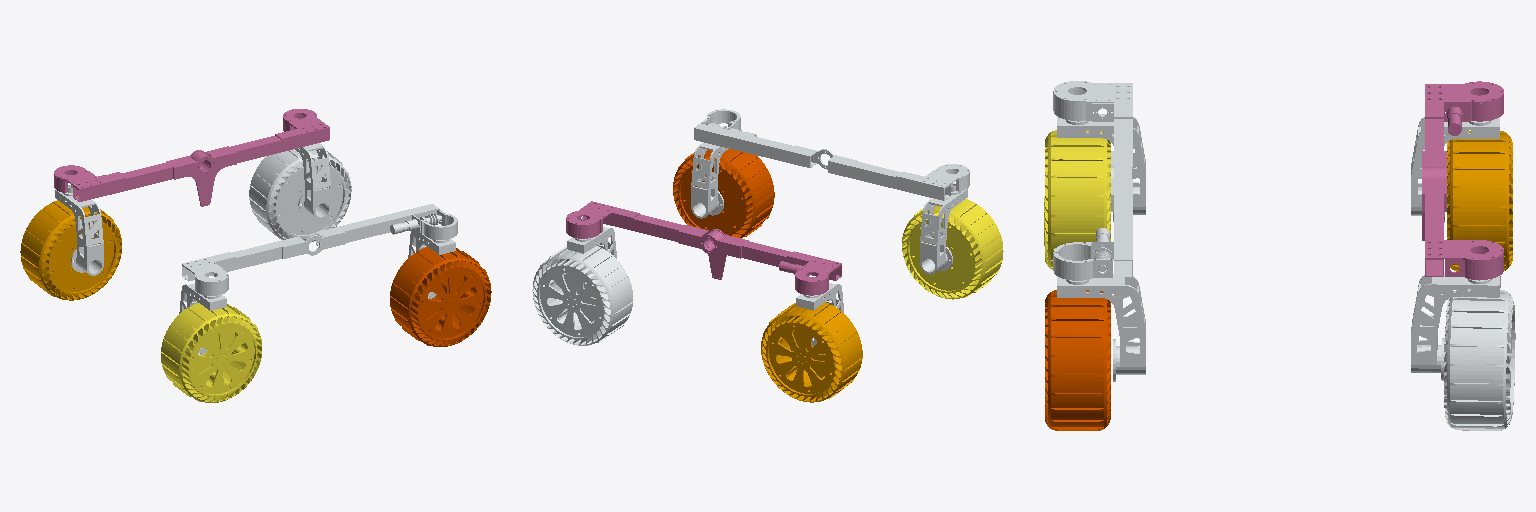
robot.urdf — new_rover_9:
<!-- This URDF was automatically created by SolidWorks to URDF Exporter! Originally created by [author] ([email redacted]) 
     Commit Version: 1.6.0-4-g7f85cfe  Build Version: 1.6.7995.38578
     For more information, please see http://wiki.ros.org/sw_urdf_exporter -->
<robot
  name="new_rover_9">

  <material name="aquaRed" >
    <color rgba="0.00784313725490196 0.8470588235294118 0.9137254901960784 1.0" />
  </material>
  <link
    name="base_link">
    <inertial>
      <origin
        xyz="-0.132082956642453 -0.0248549723848036 0.162687233510363"
        rpy="0 0 0" />
      <mass
        value="6.70568836181802" />
      <inertia
        ixx="0.0530040371661519"
        ixy="5.39048989035611E-06"
        ixz="-0.000308151386698881"
        iyy="0.0580509304770264"
        iyz="-2.67450621313034E-06"
        izz="0.0943643241885065" />
    </inertial>
    <visual>
      <origin
        xyz="0 0 0"
        rpy="0 0 0" />
      <geometry>
        <mesh
          filename="package://new_rover_9/meshes/base_link.STL" />
      </geometry>
      <material name="">
        <color rgba="0.752941176470588 0.752941176470588 0.752941176470588 1" />
      </material>
    </visual>
    <collision>
      <origin
        xyz="0 0 0"
        rpy="0 0 0" />
      <geometry>
        <mesh
          filename="package://new_rover_9/meshes/base_link.STL" />
      </geometry>
    </collision>
  </link>
  <link
    name="sus1_link">
    <inertial>
      <origin
        xyz="-0.107851740412222 0.00869273249687041 0.000618817187424514"
        rpy="0 0 0" />
      <mass
        value="1.36449713758733" />
      <inertia
        ixx="0.000623567175926047"
        ixy="-5.79272053863803E-05"
        ixz="7.02961351421298E-07"
        iyy="0.00839831717666517"
        iyz="3.38116418252128E-07"
        izz="0.00861037577387492" />
    </inertial>
    <visual>
      <origin
        xyz="0 0 0"
        rpy="0 0 0" />
      <geometry>
        <mesh
          filename="package://new_rover_9/meshes/sus1_link.STL" />
      </geometry>
      <material name="">
        <color rgba="0.898039215686275 0.917647058823529 0.929411764705882 1" />
      </material>
    </visual>
    <collision>
      <origin
        xyz="0 0 0"
        rpy="0 0 0" />
      <geometry>
        <mesh
          filename="package://new_rover_9/meshes/sus1_link.STL" />
      </geometry>
    </collision>
  </link>
  <joint
    name="sus1_joint"
    type="revolute">
    <origin
      xyz="-0.175987105974914 -0.354299998643391 0.133710652802224"
      rpy="0 0 -3.14159265358979" />
    <parent
      link="base_link" />
    <child
      link="sus1_link" />
    <axis
      xyz="0 -1 0" />
    <limit lower="-0.1" upper="0.1" effort="100000.0" velocity="1.5708"/>
  </joint>
  <link
    name="front_l_h_l">
    <inertial>
      <origin
        xyz="-0.000242820763046825 -0.08521856497559 -0.109618046061958"
        rpy="0 0 0" />
      <mass
        value="0.813058286010916" />
      <inertia
        ixx="0.00643476722942301"
        ixy="-4.22326685621668E-06"
        ixz="-5.18172608823083E-06"
        iyy="0.00498647334398899"
        iyz="-0.00161084614326428"
        izz="0.0022353416254673" />
    </inertial>
    <visual>
      <origin
        xyz="0 0 0"
        rpy="0 0 0" />
      <geometry>
        <mesh
          filename="package://new_rover_9/meshes/front_l_h_l.STL" />
      </geometry>
      <material name="">
        <color rgba="0.898039215686275 0.917647058823529 0.929411764705882 1" />
      </material>
    </visual>
    <collision>
      <origin
        xyz="0 0 0"
        rpy="0 0 0" />
      <geometry>
        <mesh
          filename="package://new_rover_9/meshes/front_l_h_l.STL" />
      </geometry>
    </collision>
  </link>
  <joint
    name="front_l_h_j"
    type="continuous">
    <origin
      xyz="0.400000000910628 0.0710000001158667 -0.0380000000953806"
      rpy="0 0 0" />
    <parent
      link="sus1_link" />
    <child
      link="front_l_h_l" />
    <axis
      xyz="0 0 1" />
  </joint>
  <link
    name="front_left_wheel_link">
    <inertial>
      <origin
        xyz="-4.38557242170567E-05 -0.0552090924540035 0.000113214876528711"
        rpy="0 0 0" />
      <mass
        value="2.61461725257028" />
      <inertia 
        ixx="0.0205058360674925"
        ixy="4.37970910857377E-05"
        ixz="8.05363520707392E-08"
        iyy="0.0358767128408902"
        iyz="5.15279358578612E-10"
        izz="0.0205057088690665" />
    </inertial>
    <visual>
      <origin
        xyz="0 0 0"
        rpy="0 0 0" />
      <geometry>
        <mesh
          filename="package://new_rover_9/meshes/front_left_wheel_link.STL" />
      </geometry>
  <material name="Gazebo/SkyBlue">
  <script>
    <uri>file:/[local-path]/scripts/gazebo.material</uri>
    <name>Gazebo/SkyBlue</name>
  </script>
</material>
    </visual>
    <collision>
      <origin
        xyz="0 0 0"
        rpy="0 0 0" />
      <geometry>
        <mesh
          filename="package://new_rover_9/meshes/front_left_wheel_link.STL" />
      </geometry>
    </collision>
  </link>
  <joint
    name="front_left_wheel_joint"
    type="continuous">
    <origin
      xyz="0.000176658071734836 0.0619997483847696 -0.193999999650114"
      rpy="0 0 0" />
    <parent
      link="front_l_h_l" />
    <child
      link="front_left_wheel_link" />
    <axis
      xyz="0 -1 0" />
  </joint>
  <link
    name="back_l_h_l">
    <inertial>
      <origin
        xyz="-5.48018288040741E-09 -0.0852189109963623 -0.109618042855027"
        rpy="0 0 0" />
      <mass
        value="0.813058285839034" />
      <inertia
        ixx="0.006434779537654"
        ixy="-9.65720636613933E-08"
        ixz="-5.91903354356779E-07"
        iyy="0.00498646103499787"
        iyz="-0.00161085436854782"
        izz="0.00223534162524064" />
    </inertial>
    <visual>
      <origin
        xyz="0 0 0"
        rpy="0 0 0" />
      <geometry>
        <mesh
          filename="package://new_rover_9/meshes/back_l_h_l.STL" />
      </geometry>
      <material name="">
        <color rgba="0.898039215686275 0.917647058823529 0.929411764705882 1" />
      </material>
    </visual>
    <collision>
      <origin
        xyz="0 0 0"
        rpy="0 0 0" />
      <geometry>
        <mesh
          filename="package://new_rover_9/meshes/back_l_h_l.STL" />
      </geometry>
    </collision>
  </link>
  <joint
    name="back_l_hJ"
    type="continuous">
    <origin
      xyz="-0.399999999057761 0.0710000001721209 -0.0380000012807069"
      rpy="0 0 0" />
    <parent
      link="sus1_link" />
    <child
      link="back_l_h_l" />
    <axis
      xyz="0 0 1" />
  </joint>
  <link
    name="back_left_wheel_link">
    <inertial>
      <origin
        xyz="0.000108343283359524 -0.0580906575113568 0.000107999200660402"
        rpy="0 0 0" />
      <mass
        value="2.73944703834587" />
      <inertia
        ixx="0.0206493482255812"
        ixy="5.15609150732447E-10"
        ixz="8.01838055968275E-08"
        iyy="0.0361230128636748"
        iyz="3.21485909733008E-10"
        izz="0.0206493458194449" />
    </inertial>
    <visual>
      <origin
        xyz="0 0 0"
        rpy="0 0 0" />
      <geometry>
        <mesh
          filename="package://new_rover_9/meshes/back_left_wheel_link.STL" />
      </geometry>
<material name="Gazebo/SkyBlue">
  <script>
    <uri>file:/[local-path]/scripts/gazebo.material</uri>
    <name>Gazebo/SkyBlue</name>
  </script>
</material>
    </visual>
    <collision>
      <origin
        xyz="0 0 0"
        rpy="0 0 0" />
      <geometry>
        <mesh
          filename="package://new_rover_9/meshes/back_left_wheel_link.STL" />
      </geometry>
    </collision>
  </link>
  <joint
    name="back_left_wheel_joint"
    type="continuous">
    <origin
      xyz="0 0.0619999999999999 -0.194000000347058"
      rpy="0 0 0" />
    <parent
      link="back_l_h_l" />
    <child
      link="back_left_wheel_link" />
    <axis
      xyz="0 -1 0" />
  </joint>
  <link
    name="sus2_link">
    <inertial>
      <origin
        xyz="0.0330258016614403 0.00446937753693932 -0.00265347295417251"
        rpy="0 0 0" />
      <mass
        value="1.51351853803693" />
      <inertia
        ixx="0.00118936552688235"
        ixy="-3.14090423072223E-15"
        ixz="-1.84724136897124E-11"
        iyy="0.00950211267187387"
        iyz="1.44958064910376E-09"
        izz="0.00945496383734068" />
    </inertial>
    <visual>
      <origin
        xyz="0 0 0"
        rpy="0 0 0" />
      <geometry>
        <mesh
          filename="package://new_rover_9/meshes/sus2_link.STL" />
      </geometry>
  <material name="Gazebo/SkyBlue">
  <script>
    <uri>file:/[local-path]/scripts/gazebo.material</uri>
    <name>Gazebo/SkyBlue</name>
  </script>
</material>
    </visual>
    <collision>
      <origin
        xyz="0 0 0"
        rpy="0 0 0" />
      <geometry>
        <mesh
          filename="package://new_rover_9/meshes/sus2_link.STL" />
      </geometry>
    </collision>
  </link>
  <joint
    name="sus2_joint"
    type="revolute">
    <origin
      xyz="-0.175987106860856 0.354300001186029 0.133710652113138"
      rpy="0 0.00357594456426887 3.14159265358979" />
    <parent
      link="base_link" />
    <child
      link="sus2_link" />
    <axis
      xyz="0 1 0" />
    <limit lower="-0.1" upper="0.1" effort="10000.0" velocity="1.5708"/>
    <mimic joint="sus1_joint" multiplier="-1.0" offset="0.0"/> 
  </joint>
  <link
    name="front_r_h_l">
    <inertial>
      <origin
        xyz="4.86645390651574E-09 0.085218911040194 -0.10961804455372"
        rpy="0 0 0" />
      <mass
        value="0.813058287609234" />
      <inertia
        ixx="0.00643477954179645"
        ixy="-9.65649492468235E-08"
        ixz="5.91885627826755E-07"
        iyy="0.00498646103917411"
        iyz="0.0016108543700911"
        izz="0.00223534162739043" />
    </inertial>
    <visual>
      <origin
        xyz="0 0 0"
        rpy="0 0 0" />
      <geometry>
        <mesh
          filename="package://new_rover_9/meshes/front_r_h_l.STL" />
      </geometry>
      <material name="">
        <color rgba="0.898039215686275 0.917647058823529 0.929411764705882 1" />
      </material>
    </visual>
    <collision>
      <origin
        xyz="0 0 0"
        rpy="0 0 0" />
      <geometry>
        <mesh
          filename="package://new_rover_9/meshes/front_r_h_l.STL" />
      </geometry>
    </collision>
  </link>
  <joint
    name="front_r_h_j"
    type="continuous">
    <origin
      xyz="0.399999999999999 -0.0710000000035129 -0.0380000000000013"
      rpy="0 0 0" />
    <parent
      link="sus2_link" />
    <child
      link="front_r_h_l" />
    <axis
      xyz="0 0 1" />
    <limit
      lower="0"
      upper="0"
      effort="0"
      velocity="0" />
  </joint>
  <link
    name="front_right_wheel_link">
    <inertial>
      <origin
        xyz="-0.000113454359543574 0.0552089937849367 0.000113217182604319"
        rpy="0 0 0" />
      <mass
        value="2.61461727423235" />
      <inertia
        ixx="0.0205057112753755"
        ixy="9.04712398629322E-11"
        ixz="-8.05340897281517E-08"
        iyy="0.0358768376354114"
        iyz="-7.46678116656255E-10"
        izz="0.0205057088695035" />
    </inertial>
    <visual>
      <origin
        xyz="0 0 0"
        rpy="0 0 0" />
      <geometry>
        <mesh
          filename="package://new_rover_9/meshes/front_right_wheel_link.STL" />
      </geometry>
  <material name="Gazebo/SkyBlue">
  <script>
    <uri>file:/[local-path]/scripts/gazebo.material</uri>
    <name>Gazebo/SkyBlue</name>
  </script>
</material>
    </visual>
    <collision>
      <origin
        xyz="0 0 0"
        rpy="0 0 0" />
      <geometry>
        <mesh
          filename="package://new_rover_9/meshes/front_right_wheel_link.STL" />
      </geometry>
    </collision>
  </link>
  <joint
    name="front_right_wheel_joint"
    type="continuous">
    <origin
      xyz="0 -0.0620000000000003 -0.193999999999999"
      rpy="0 0 0" />
    <parent
      link="front_r_h_l" />
    <child
      link="front_right_wheel_link" />
    <axis
      xyz="0 -1 0" />
  </joint>
  <link
    name="back_r_h_l">
    <inertial>
      <origin
        xyz="0.00402031957380141 0.085124026231707 -0.106618044690216"
        rpy="0 0 0" />
      <mass
        value="0.813058290423122" />
      <inertia
        ixx="0.00643154706202593"
        ixy="-6.83463973916225E-05"
        ixz="7.6585409160035E-05"
        iyy="0.00498969353188392"
        iyz="0.0016090328881658"
        izz="0.00223534163080321" />
    </inertial>
    <visual>
      <origin
        xyz="0 0 0"
        rpy="0 0 0" />
      <geometry>
        <mesh
          filename="package://new_rover_9/meshes/back_r_h_l.STL" />
      </geometry>
      <material name="">
        <color rgba="0.898039215686275 0.917647058823529 0.929411764705882 1" />
      </material>
    </visual>
    <collision>
      <origin
        xyz="0 0 0"
        rpy="0 0 0" />
      <geometry>
        <mesh
          filename="package://new_rover_9/meshes/back_r_h_l.STL" />
      </geometry>
    </collision>
  </link>
  <joint
    name="back_r_h_j"
    type="continuous">
    <origin
      xyz="-0.399999999999984 -0.0709999999999851 -0.0410000000000155"
      rpy="0 0 0" />
    <parent
      link="sus2_link" />
    <child
      link="back_r_h_l" />
    <axis
      xyz="0 0 1" />
  </joint>
  <link
    name="back_right_wheel_link">
    <inertial>
      <origin
        xyz="0.00250492295307812 0.055461749017975 0.00011398112616029"
        rpy="0 0 0" />
      <mass
        value="2.59563281881356" />
      <inertia
        ixx="0.0205372678750687"
        ixy="0.000724255886771007"
        ixz="-8.01123581742274E-08"
        iyy="0.0358380639620823"
        iyz="3.47254329926727E-09"
        izz="0.0205030596334987" />
    </inertial>
    <visual>
      <origin
        xyz="0 0 0"
        rpy="0 0 0" />
      <geometry>
        <mesh
          filename="package://new_rover_9/meshes/back_right_wheel_link.STL" />
      </geometry>
      <material name="">
        <color rgba="0.898039215686275 0.917647058823529 0.929411764705882 1" />
      </material>
    </visual>
    <collision>
      <origin
        xyz="0 0 0"
        rpy="0 0 0" />
      <geometry>
        <mesh
          filename="package://new_rover_9/meshes/back_right_wheel_link.STL" />
      </geometry>
    </collision>
  </link>
  <joint
    name="back_right_wheel_joint"
    type="continuous">
    <origin
      xyz="-0.00292493192265439 -0.0619309678048843 -0.190999999999974"
      rpy="0 0 0" />
    <parent
      link="back_r_h_l" />
    <child
      link="back_right_wheel_link" />
    <axis
      xyz="0 -1 0" />
  </joint>


   <!-- <material name="aquaRed" >
    <color rgba="0.00784313725490196 0.8470588235294118 0.9137254901960784 1.0" />
  </material> -->


  <gazebo reference="front_left_wheel_link"> 
    
    <material>Gazebo/SkyBlue</material>
    <mu1>0.2</mu1>
    <mu2>0.2</mu2>
    <selfCollide>True</selfCollide>
  </gazebo>
  <gazebo reference="back_left_wheel_link"> 
    
    <material>Gazebo/SkyBlue</material>
    <mu1>0.2</mu1>
    <mu2>0.2</mu2>
    <selfCollide>True</selfCollide>
  </gazebo>
  <gazebo reference="front_right_wheel_link"> 
    
    <material>Gazebo/SkyBlue</material>
    <mu1>0.2</mu1>
    <mu2>0.2</mu2>
    <selfCollide>True</selfCollide>
  </gazebo>
  <gazebo reference="back_right_wheel_link"> 
    
    <material>Gazebo/SkyBlue</material>
    <mu1>0.2</mu1>
    <mu2>0.2</mu2>
    <selfCollide>True</selfCollide>
  </gazebo>

  <gazebo reference="sus2_link"> 
    
    <material>Gazebo/Grey</material>
    <mu1>0.2</mu1>
    <mu2>0.2</mu2>
    <selfCollide>True</selfCollide>
  </gazebo>
  <gazebo reference="sus1_link"> 
    
    <material>Gazebo/Grey</material>
    <mu1>0.2</mu1>
    <mu2>0.2</mu2>
    <selfCollide>True</selfCollide>
  </gazebo>



  <gazebo reference="front_l_h_l"> 
    
    <material>Gazebo/Grey</material>
    <mu1>0.2</mu1>
    <mu2>0.2</mu2>
    <selfCollide>True</selfCollide>
  </gazebo>
  <gazebo reference="back_l_h_l"> 
    
    <material>Gazebo/Grey</material>
    <mu1>0.2</mu1>
    <mu2>0.2</mu2>
    <selfCollide>True</selfCollide>
  </gazebo>
  <gazebo reference="front_r_h_l"> 
    
    <material>Gazebo/Grey</material>
    <mu1>0.2</mu1>
    <mu2>0.2</mu2>
    <selfCollide>True</selfCollide>
  </gazebo>
  <gazebo reference="back_r_h_l"> 
    
    <material>Gazebo/Grey</material>
    <mu1>0.2</mu1>
    <mu2>0.2</mu2>
    <selfCollide>True</selfCollide>
  </gazebo>

  <gazebo reference="base_link"> 
    
    <material>Gazebo/Grey</material>
    <mu1>0.2</mu1>
    <mu2>0.2</mu2>
    <selfCollide>True</selfCollide>
  </gazebo>




  <!-- <gazebo>
    <plugin
      filename="libgazebo_ackermann_steering.so"
      name="ackerman_drive">
      
    </plugin>
    </gazebo> -->
</robot>

--- What the picture shows (computed from the rendered views, not written in the file) ---
Views: 3 orthographic renders of the robot side by side, from view 1: azimuth 30°, elevation 25°; view 2: azimuth 150°, elevation 25°; view 3: azimuth 270°, elevation 25°.
Model new_rover_9 with 11 links and 10 joints (2 revolute, 8 continuous), rooted at base_link, posed every joint at zero.
Visible links, largest first — view 1: back_left_wheel_link, front_left_wheel_link, sus2_link, sus1_link, front_right_wheel_link, back_right_wheel_link, front_r_h_l, back_r_h_l, front_l_h_l, back_l_h_l; view 2: front_right_wheel_link, back_right_wheel_link, sus2_link, sus1_link, front_left_wheel_link, back_left_wheel_link, front_l_h_l, back_l_h_l, back_r_h_l, front_r_h_l; view 3: back_right_wheel_link, back_left_wheel_link, sus2_link, sus1_link, front_right_wheel_link, front_left_wheel_link, back_l_h_l, back_r_h_l, front_l_h_l, front_r_h_l.
Link boxes in pixels (x1,y1,x2,y2): back_left_wheel_link: (390, 247, 491, 346); front_left_wheel_link: (161, 303, 261, 402); sus2_link: (54, 109, 329, 206); sus1_link: (182, 204, 457, 295); front_right_wheel_link: (20, 200, 121, 300); back_right_wheel_link: (249, 149, 351, 241); front_r_h_l: (55, 185, 103, 275); back_r_h_l: (295, 143, 330, 219); front_l_h_l: (179, 283, 226, 354); back_l_h_l: (408, 230, 455, 298); front_right_wheel_link: (761, 302, 862, 402); back_right_wheel_link: (532, 246, 632, 345); sus2_link: (566, 201, 841, 295); sus1_link: (694, 109, 969, 200); front_left_wheel_link: (902, 199, 1003, 299); back_left_wheel_link: (673, 149, 774, 238); front_l_h_l: (920, 183, 967, 274); back_l_h_l: (691, 142, 728, 218); back_r_h_l: (567, 227, 616, 297); front_r_h_l: (796, 283, 843, 354); back_right_wheel_link: (1444, 289, 1515, 430); back_left_wheel_link: (1045, 290, 1110, 430); sus2_link: (1422, 81, 1503, 279); sus1_link: (1053, 81, 1132, 280); front_right_wheel_link: (1447, 131, 1512, 271); front_left_wheel_link: (1044, 130, 1110, 270); back_l_h_l: (1057, 274, 1145, 381); back_r_h_l: (1411, 273, 1500, 380); front_l_h_l: (1057, 114, 1145, 221); front_r_h_l: (1411, 117, 1499, 222).
Bounding box of the posed robot: 1.1 × 0.9965 × 0.4151 m (x, y, z).
10 mesh visuals loaded from 11 distinct referenced files (10 binary STL); not drawn: 1 (reference not matched to a file when rendering).
